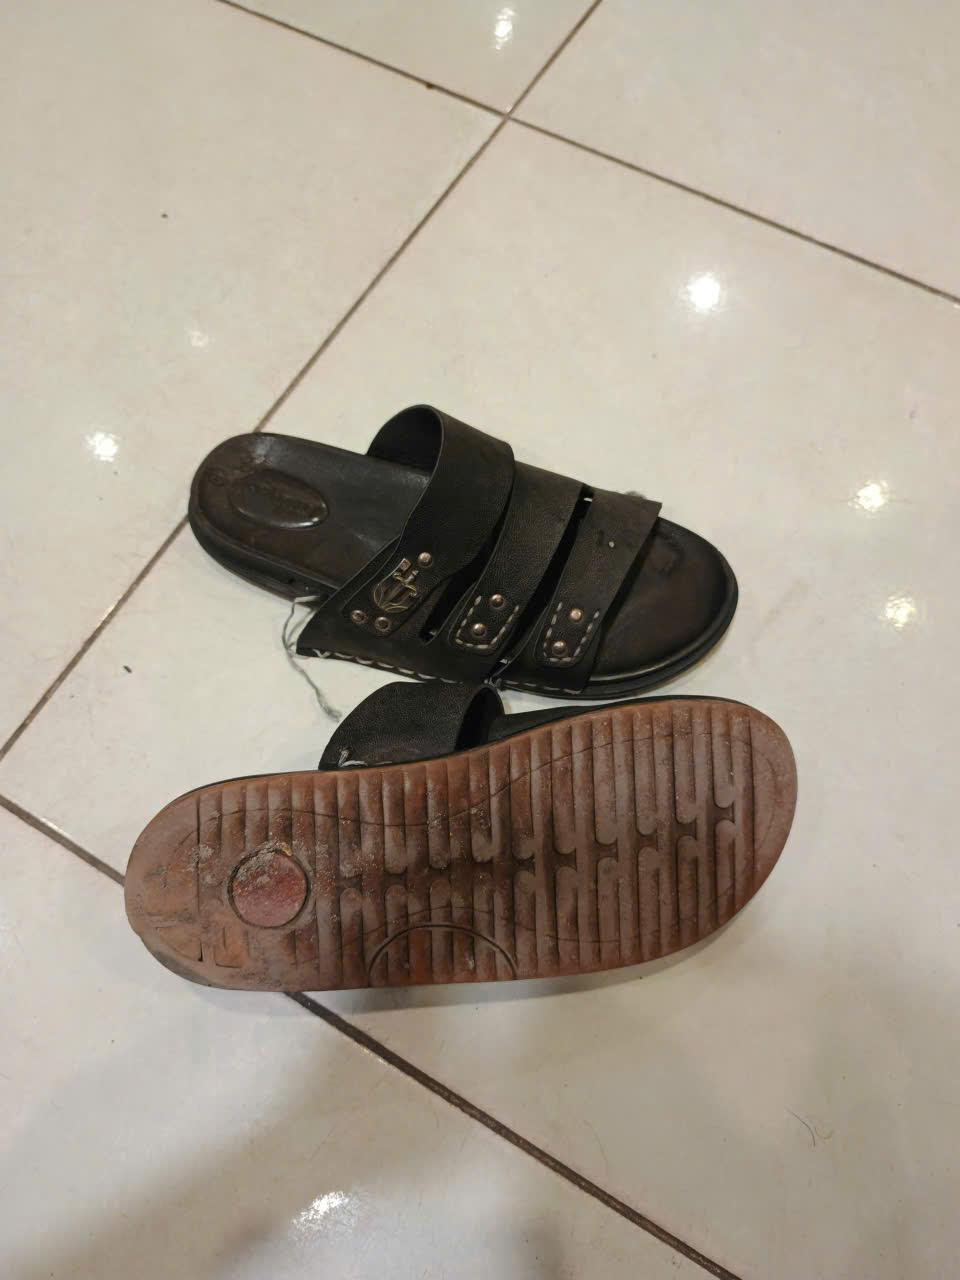Con lai: (120, 680, 800, 995), (188, 400, 750, 698)
